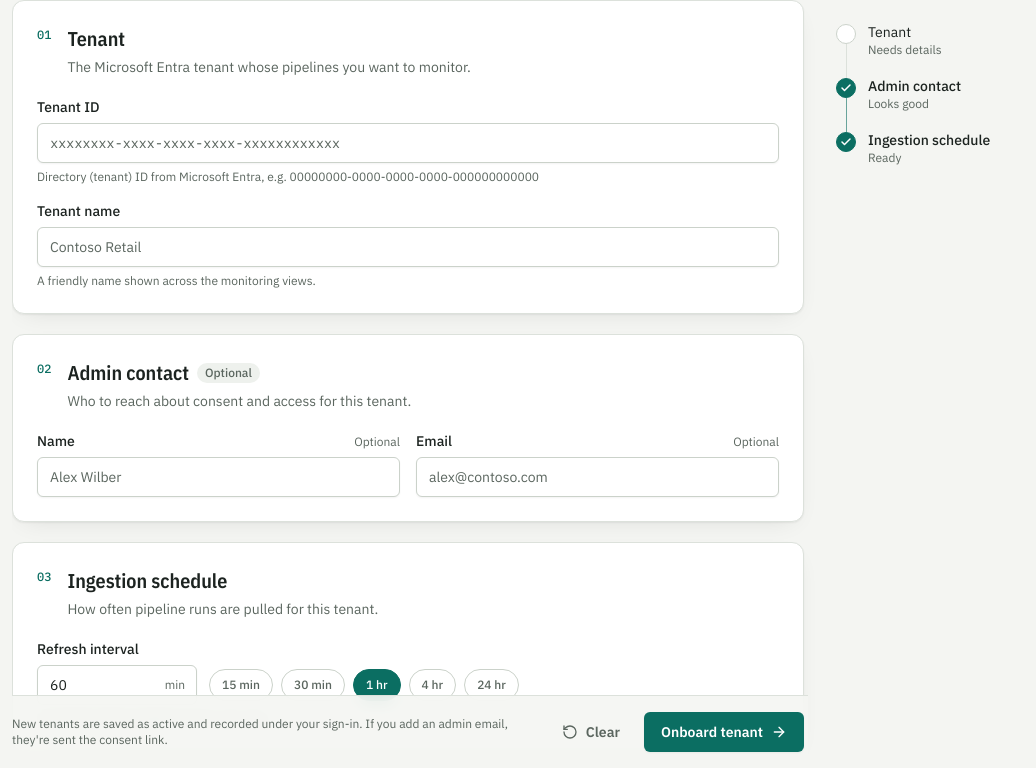
TenantOnboarding › submits and confirms the saved tenant
In the field labelled "Tenant ID": point(408, 143) [37,123,779,163], type "11111111-2222-3333-4444-555555555555"
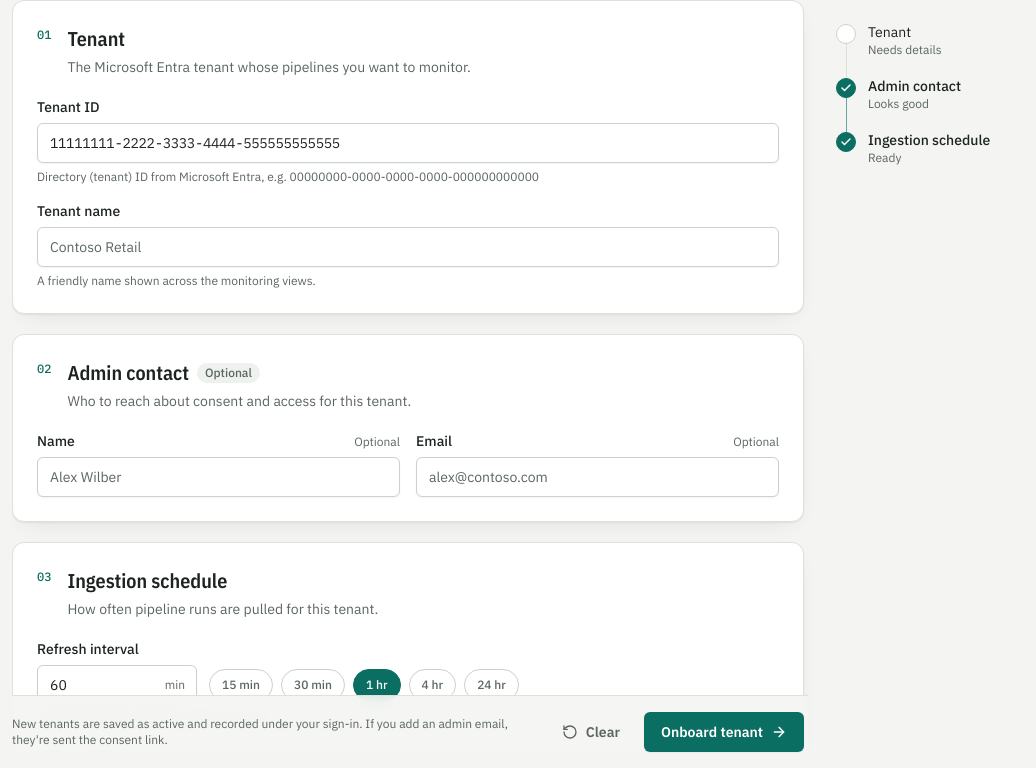
In the field labelled "Tenant name": point(408, 247) [37,227,779,267], type "Contoso"
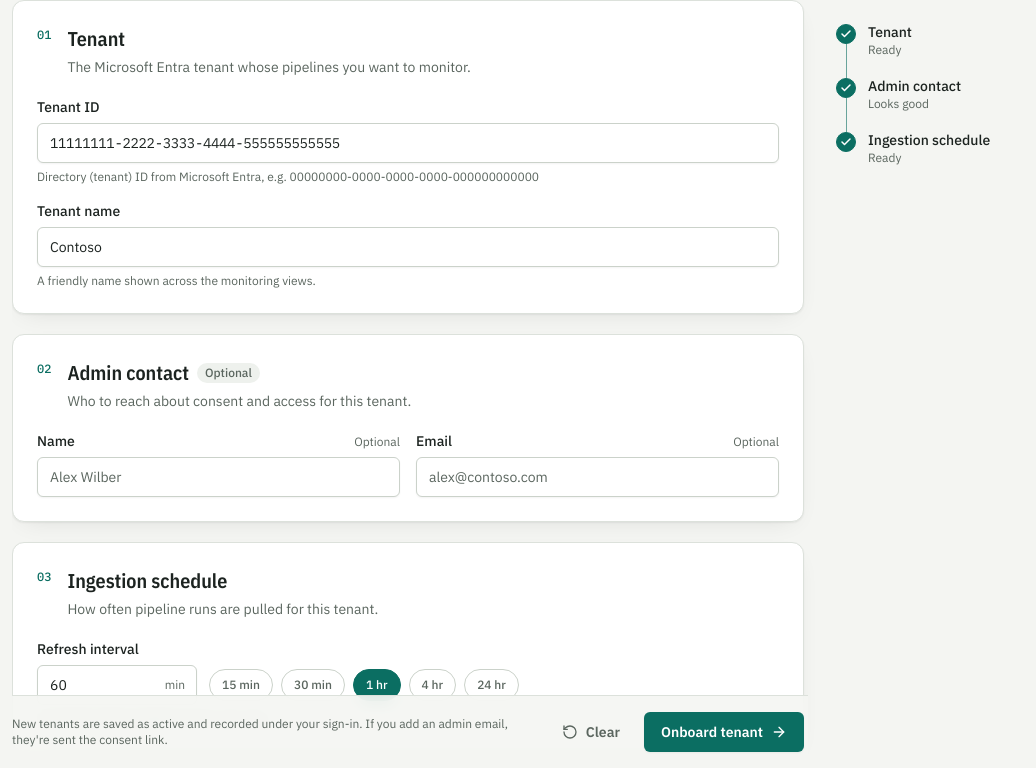
Click the button "Onboard tenant": point(724, 732) [644,712,804,752]
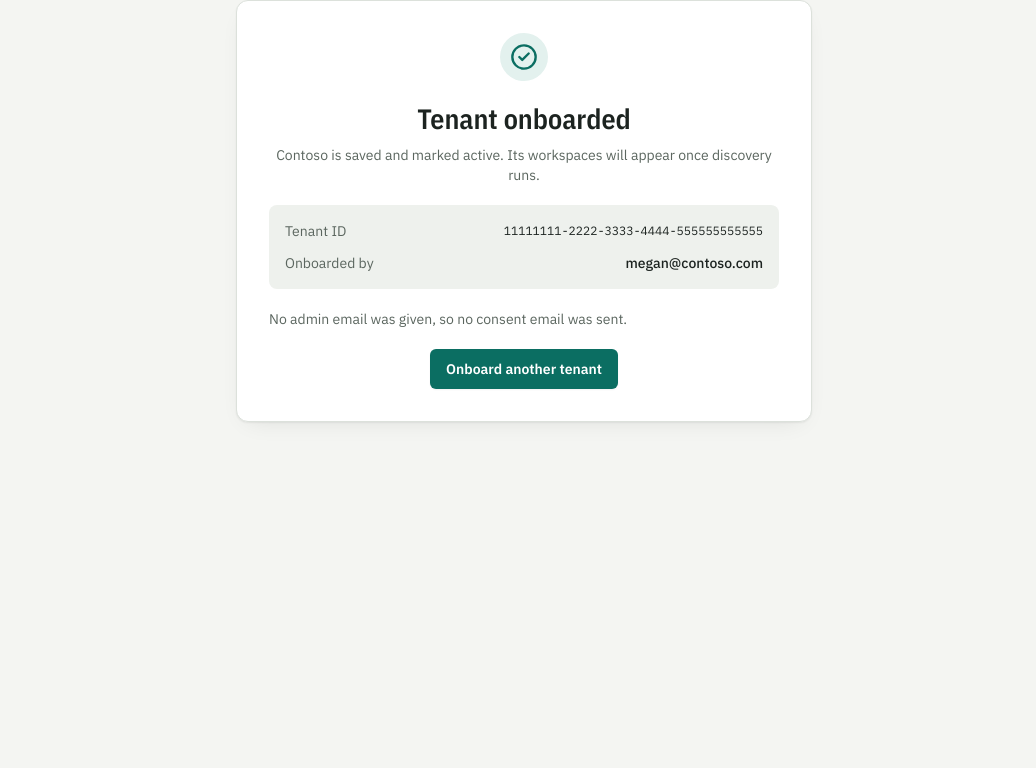
expect the heading "Tenant onboarded" is shown: met, box [417,100,631,137]
expect the text "megan@contoso.com" is shown: met, box [625,253,763,273]
expect the text "No admin email was given, so no consent email was sent." is shown: met, box [269,310,627,328]
